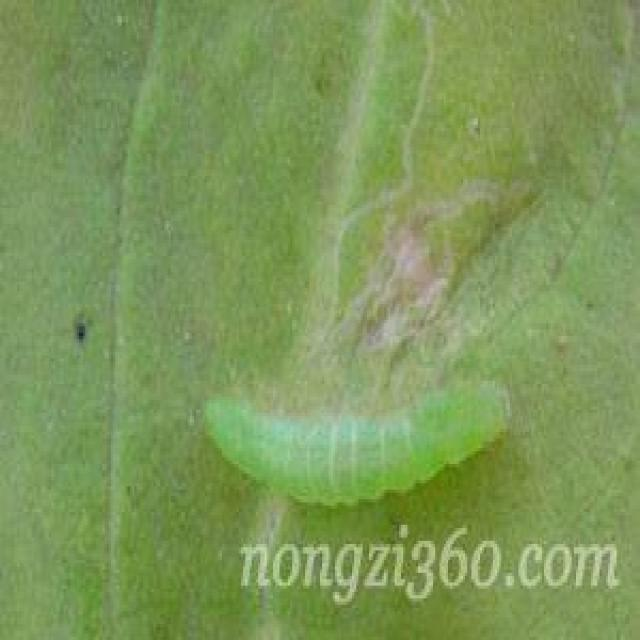armyworm: (199, 380, 525, 502)
